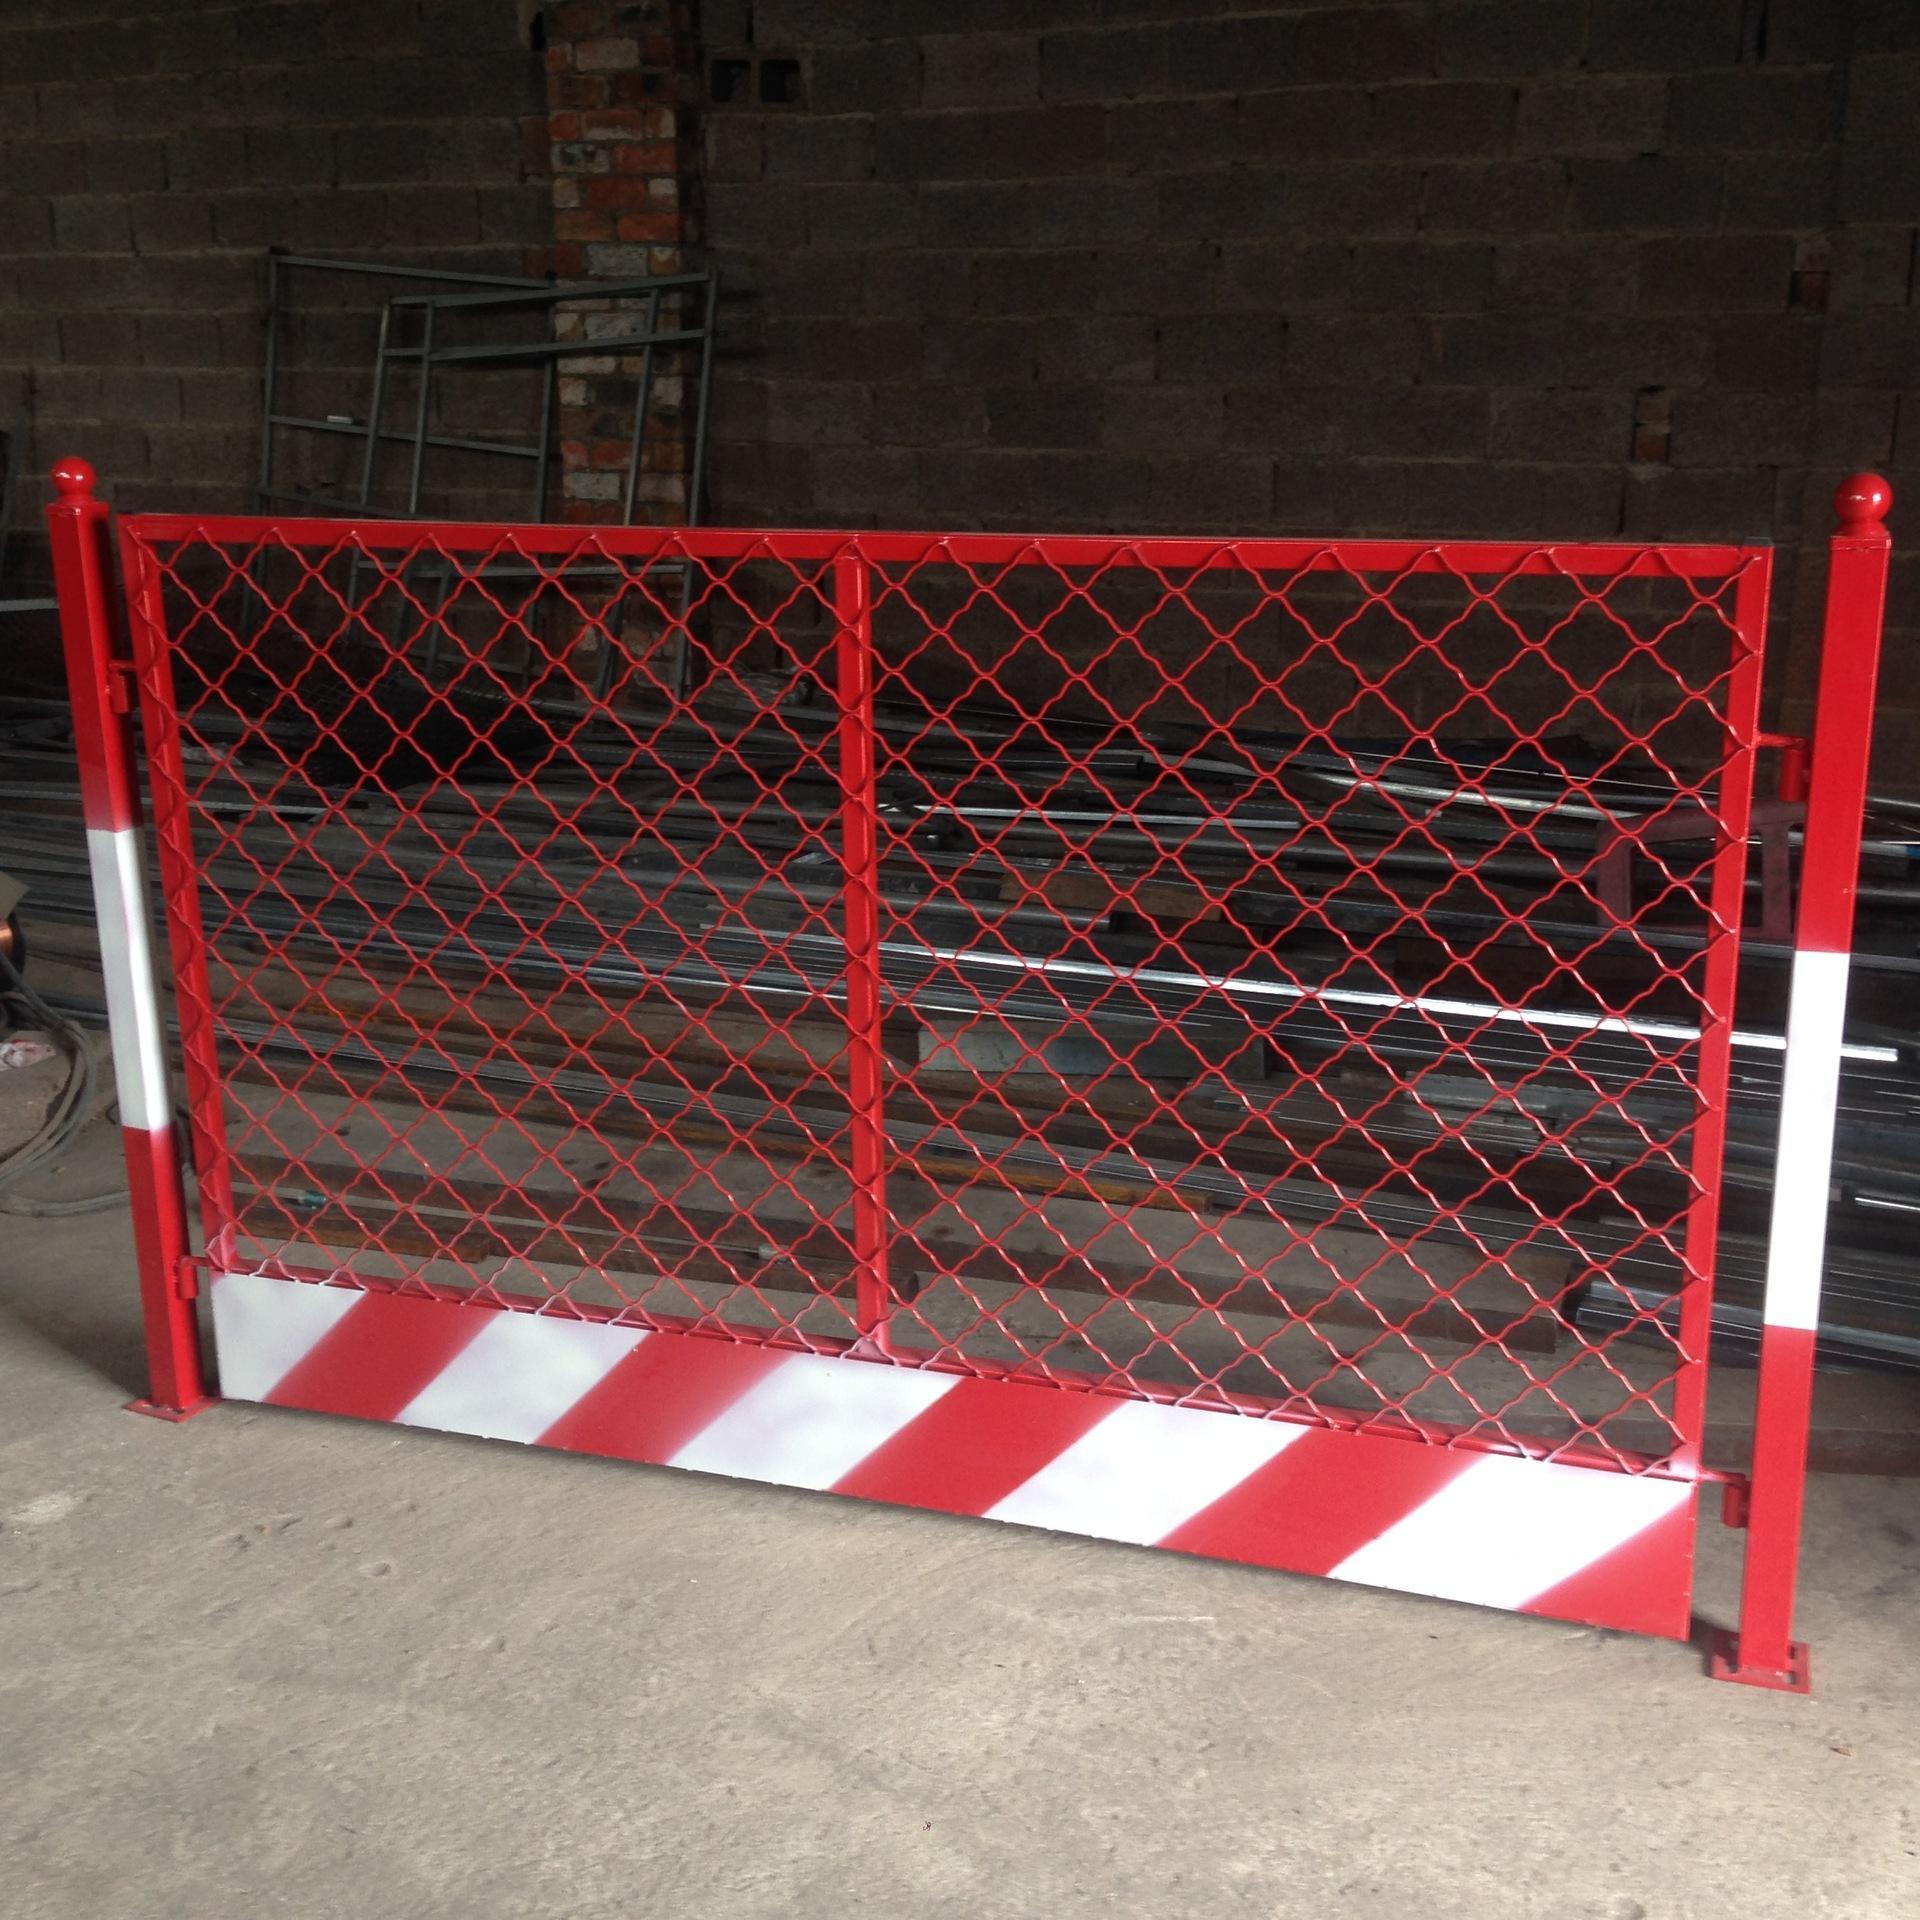sign: (35, 367, 1920, 1691)
